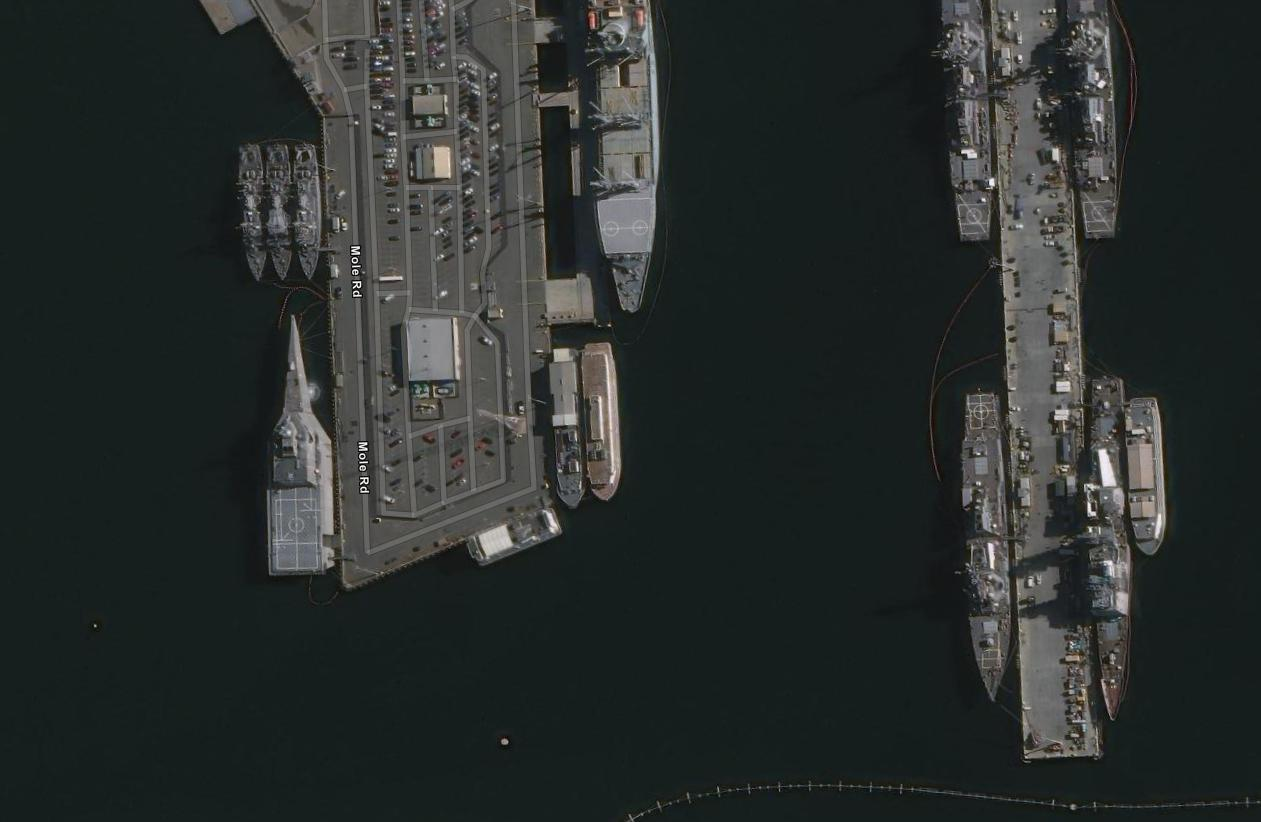fregate: (954, 380, 1021, 714)
littoral combat ship: (246, 302, 364, 592)
